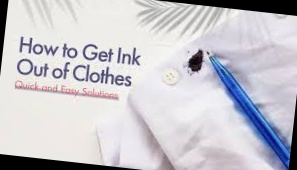ink: (188, 49, 204, 74)
